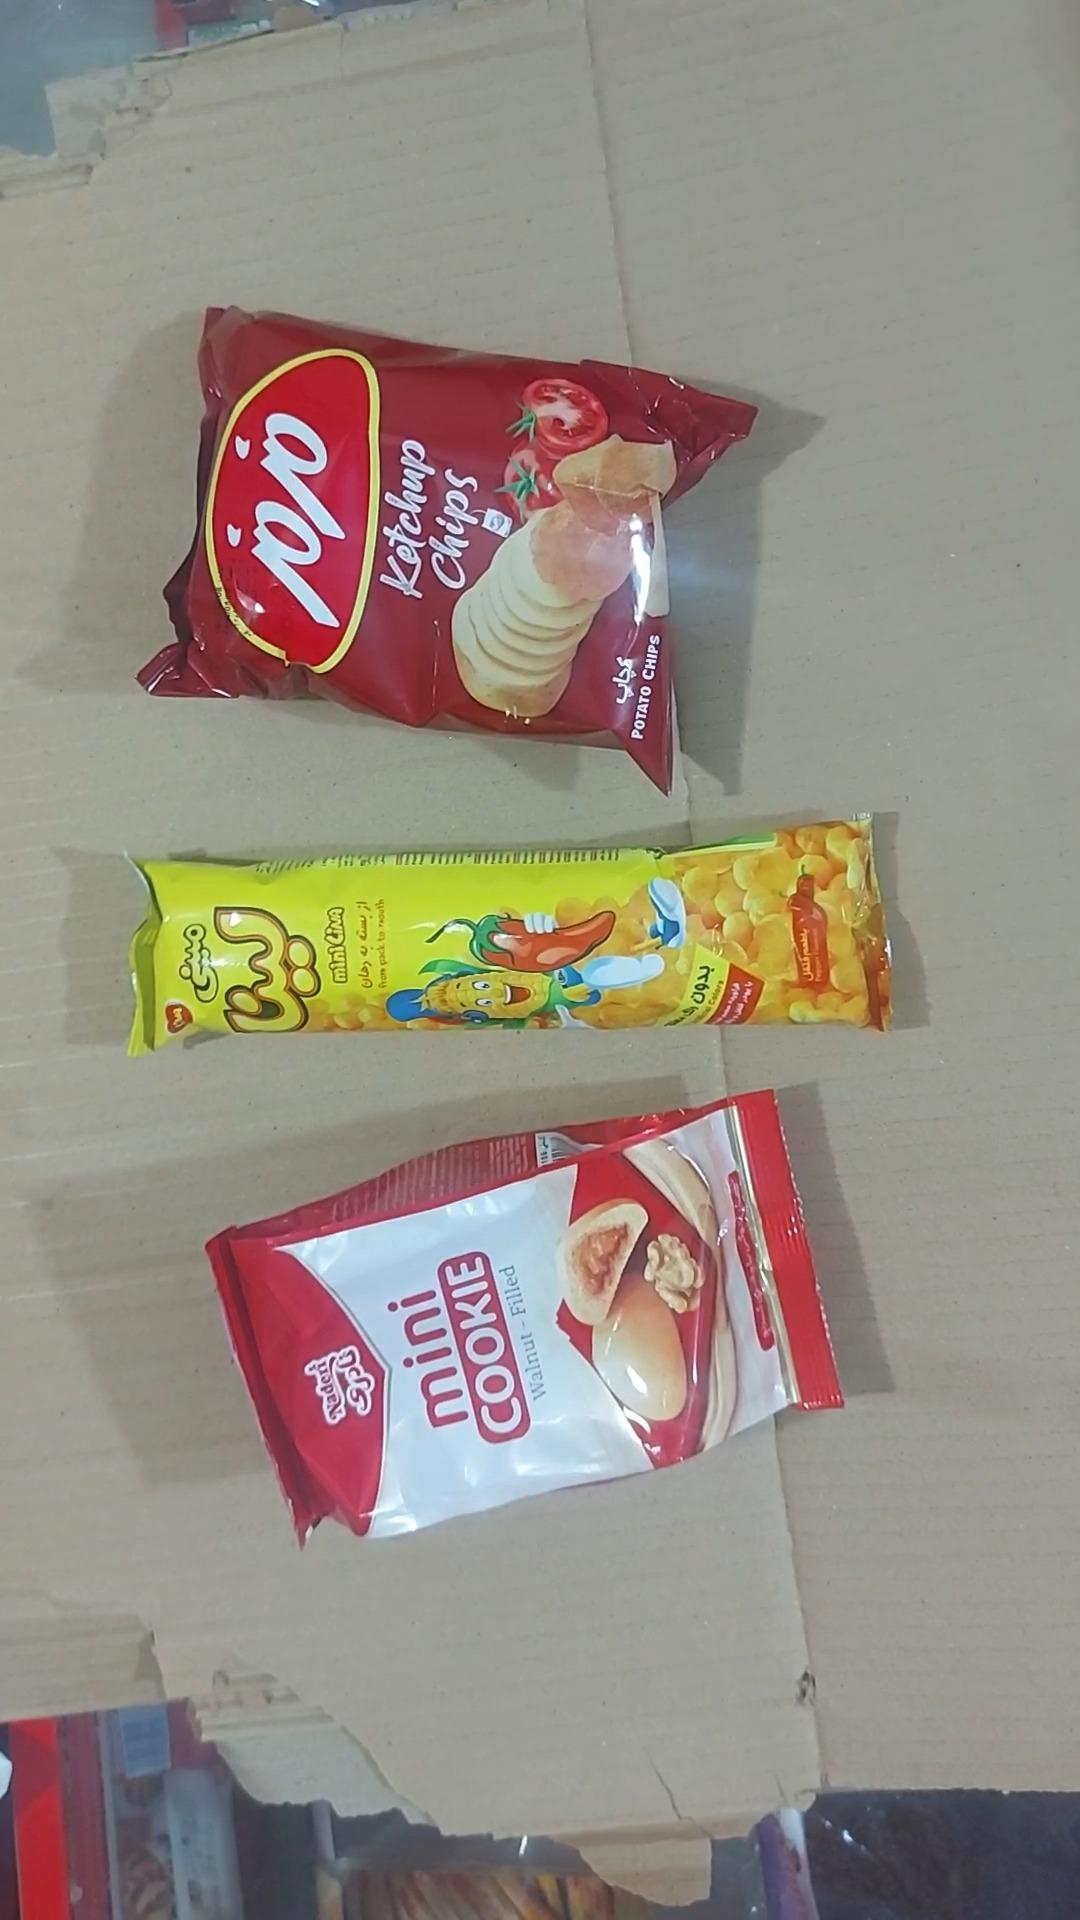Maz Maz ketchup chips: (138, 309, 756, 793)
Mini Lina: (128, 819, 891, 1055)
Naderi mini cookie: (207, 1091, 841, 1544)
